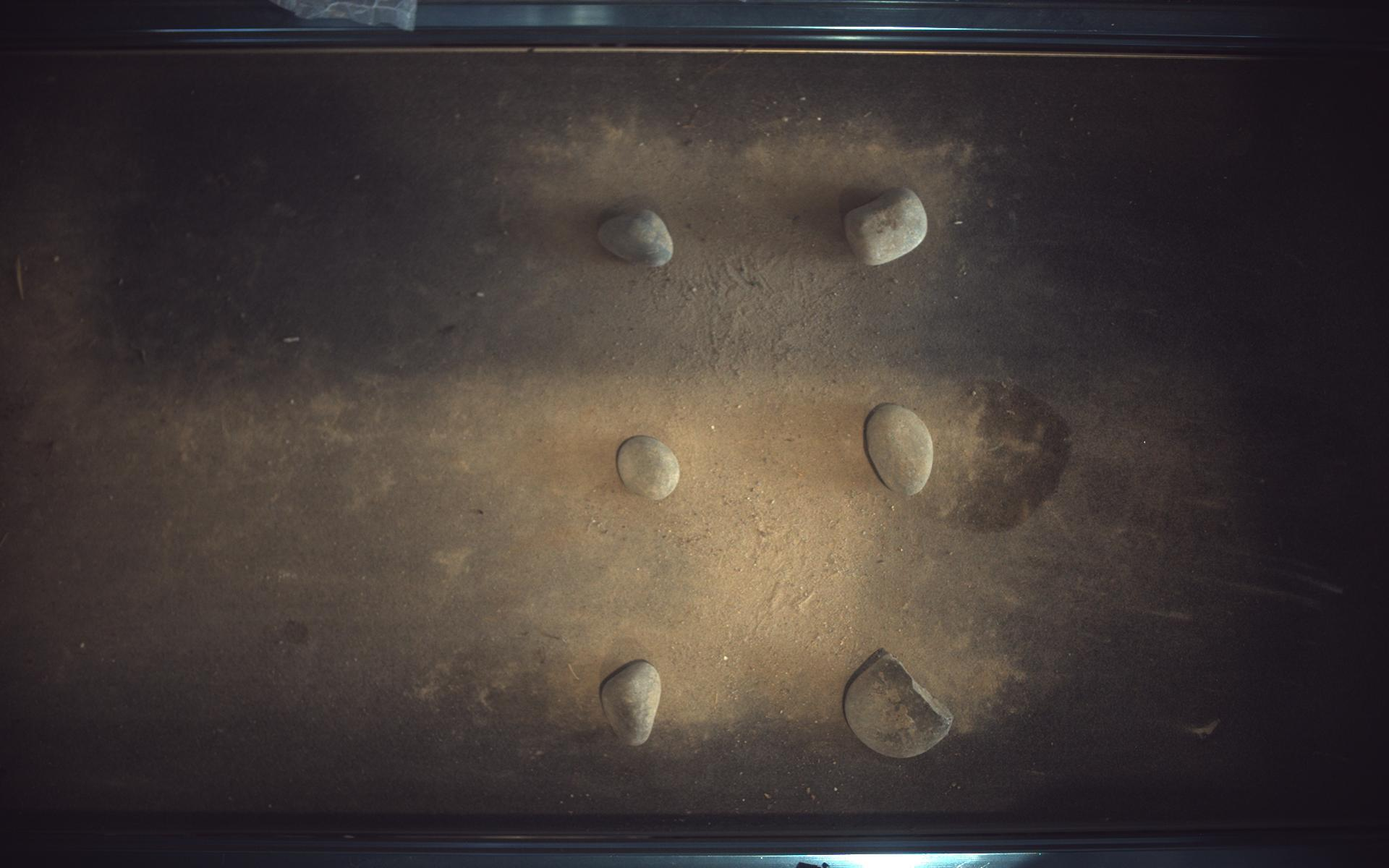stone: (845, 649, 955, 760), (846, 187, 930, 265), (867, 404, 935, 496), (600, 661, 662, 747), (618, 435, 681, 501), (600, 209, 674, 265)
